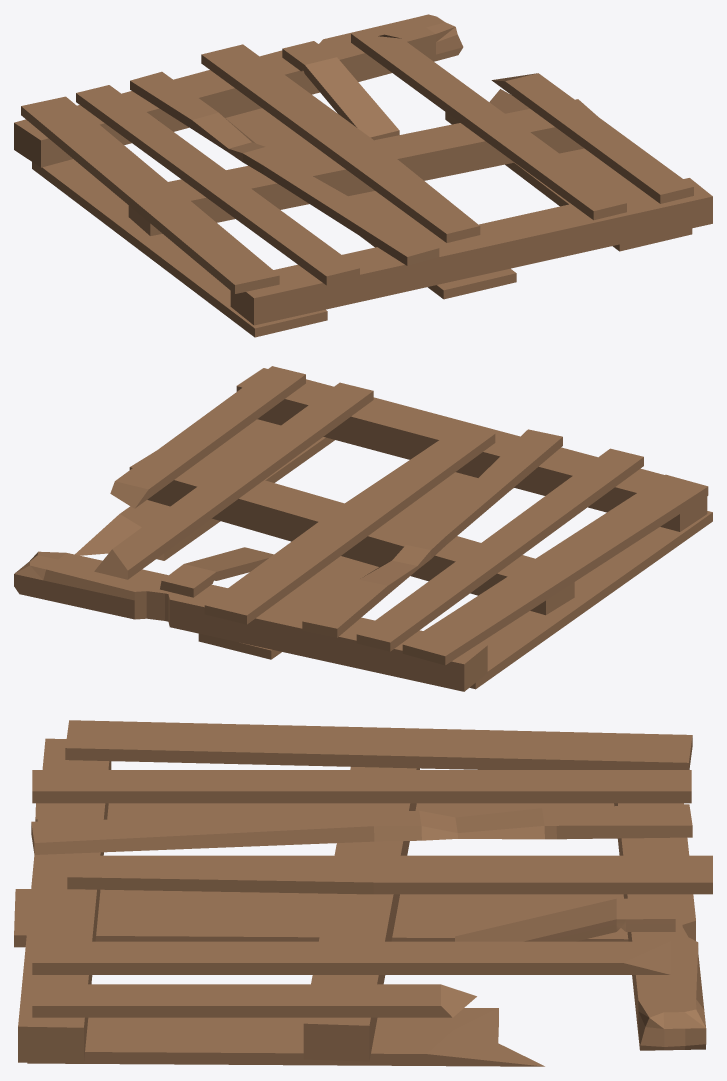
The model's file is Pallet_Crushed_Mode_01.fbx.
3 renders of one model, top to bottom at view 1: azimuth 30°, elevation 25°; view 2: azimuth 150°, elevation 25°; view 3: azimuth 270°, elevation 25°, orthographic. The views are drawn at different scales.
Parts seen in each view (by area): view 1: Pallet02_Com; view 2: Pallet02_Com; view 3: Pallet02_Com.
Boxes of the visible parts, x1,y1,x2,y2 form: Pallet02_Com: (14, 14, 712, 337); Pallet02_Com: (14, 366, 712, 691); Pallet02_Com: (14, 720, 712, 1066).
Size of the model in its own units: 53.03 by 5 by 53.
